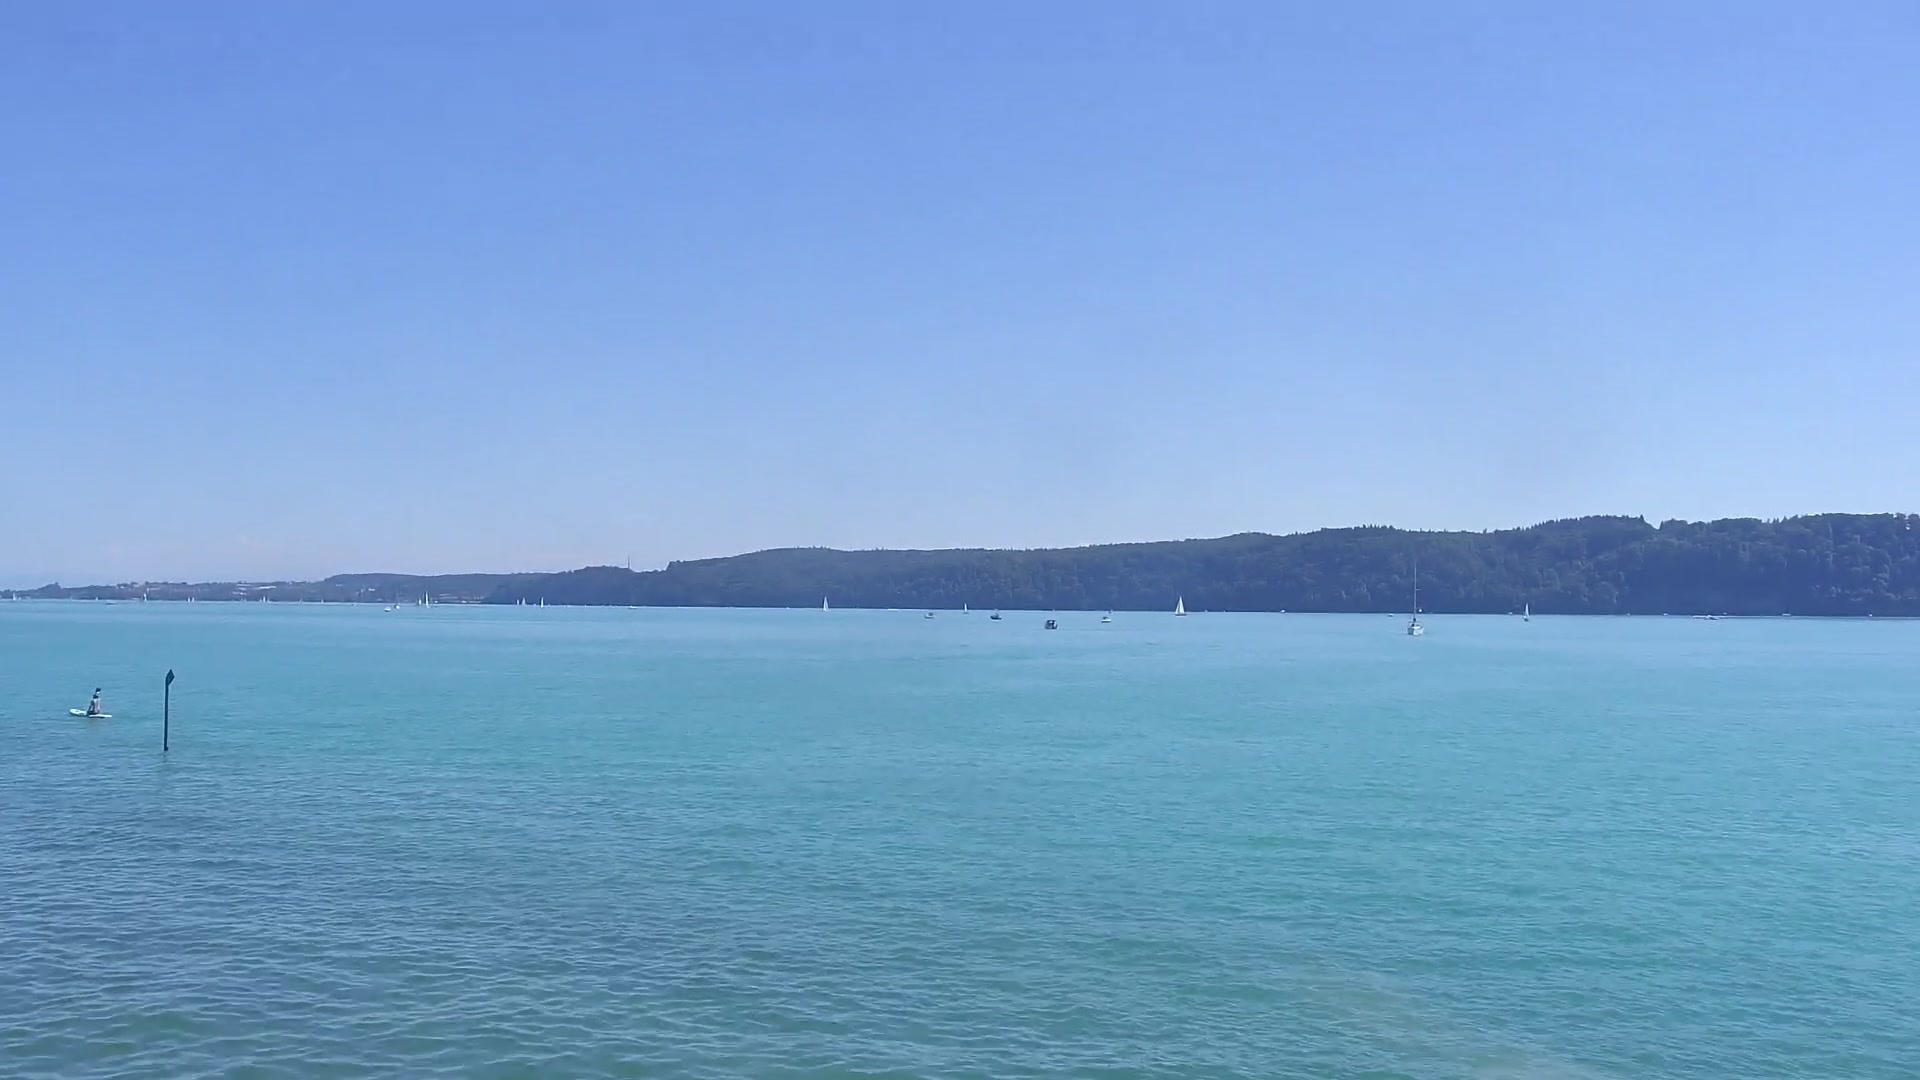human: (86, 692, 100, 716)
sea: (69, 687, 112, 718), (1407, 564, 1425, 636), (1174, 595, 1187, 616), (1691, 613, 1716, 620), (1044, 619, 1058, 630), (1522, 601, 1529, 621), (822, 596, 830, 612), (424, 590, 431, 608), (924, 611, 936, 619), (990, 612, 1002, 620), (1101, 615, 1112, 623), (964, 603, 969, 614), (1781, 612, 1792, 617), (384, 606, 392, 613), (521, 598, 526, 607), (540, 596, 545, 608), (13, 591, 17, 600), (191, 596, 195, 602), (186, 596, 190, 603)
